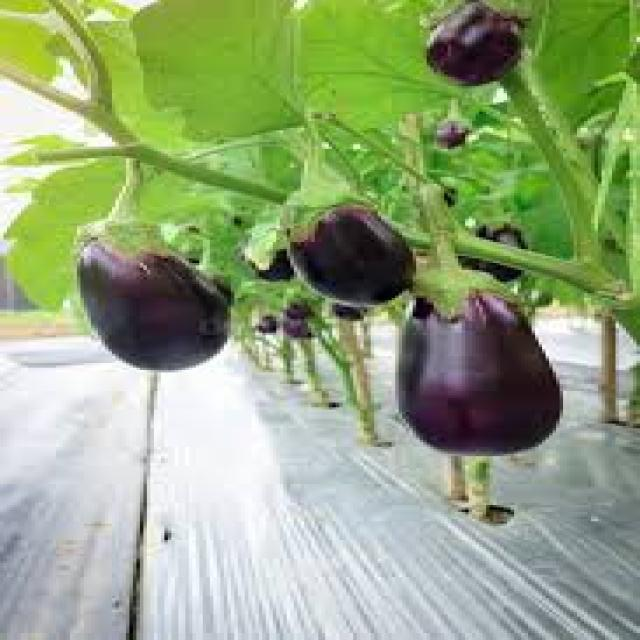Eggplant: (388, 216, 568, 456), (77, 195, 238, 372), (284, 163, 416, 304), (426, 0, 530, 89), (447, 195, 529, 282), (266, 308, 324, 336), (248, 303, 282, 332)
